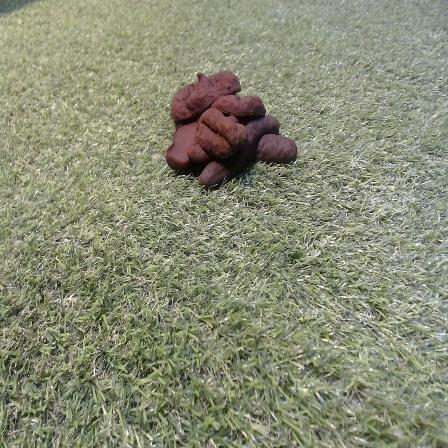dog-poop: (167, 72, 297, 185)
